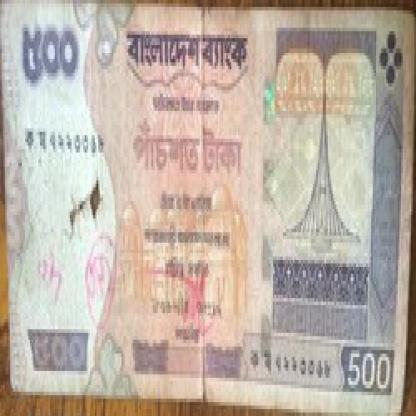500 taka: (124, 104, 270, 191), (10, 24, 92, 73)
currency: (5, 7, 411, 412)
